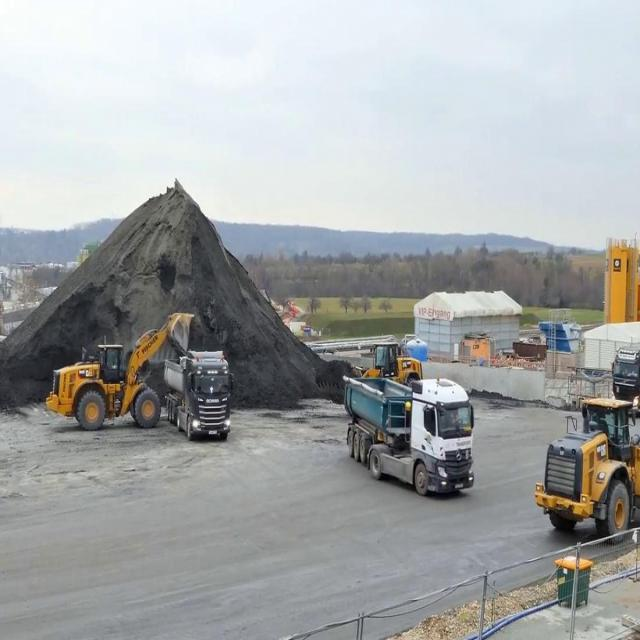Dump Truck: (338, 370, 475, 500), (163, 348, 234, 438)
Loader: (42, 310, 194, 428), (534, 392, 640, 547), (315, 338, 422, 394)
